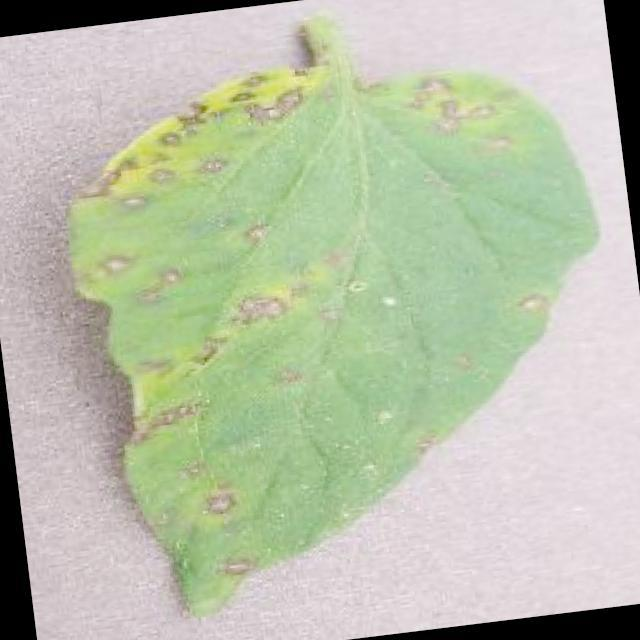Tomato Septoria spot leaf: (46, 26, 640, 627)
